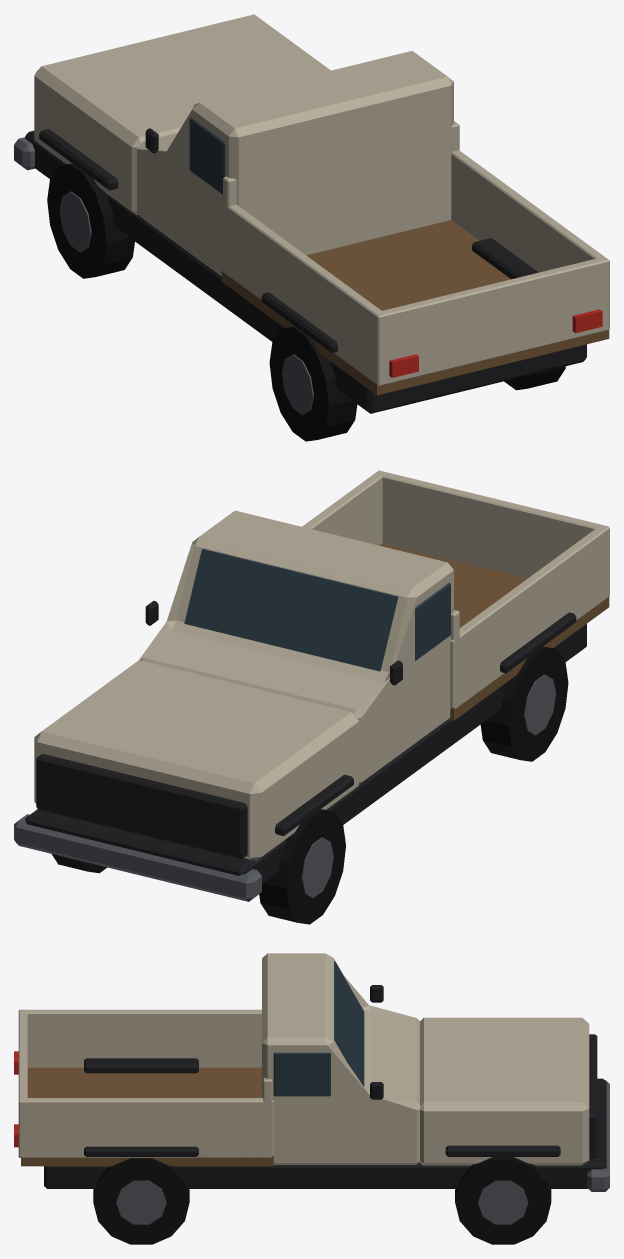
Rendered from truck.glb.
3 views of the same model, one above another, from view 1: azimuth 30°, elevation 25°; view 2: azimuth 150°, elevation 25°; view 3: azimuth 270°, elevation 25° (orthographic). The views are drawn at different scales.
Parts seen in each view (by area): view 1: truck; view 2: truck; view 3: truck.
Part boxes in pixels (left/top/right/bottom): truck: left=14, top=14, right=609, bottom=441; truck: left=14, top=470, right=609, bottom=924; truck: left=14, top=953, right=609, bottom=1244.
Bounding box in the file's own units: 2.06 × 1.94 × 5.19.
